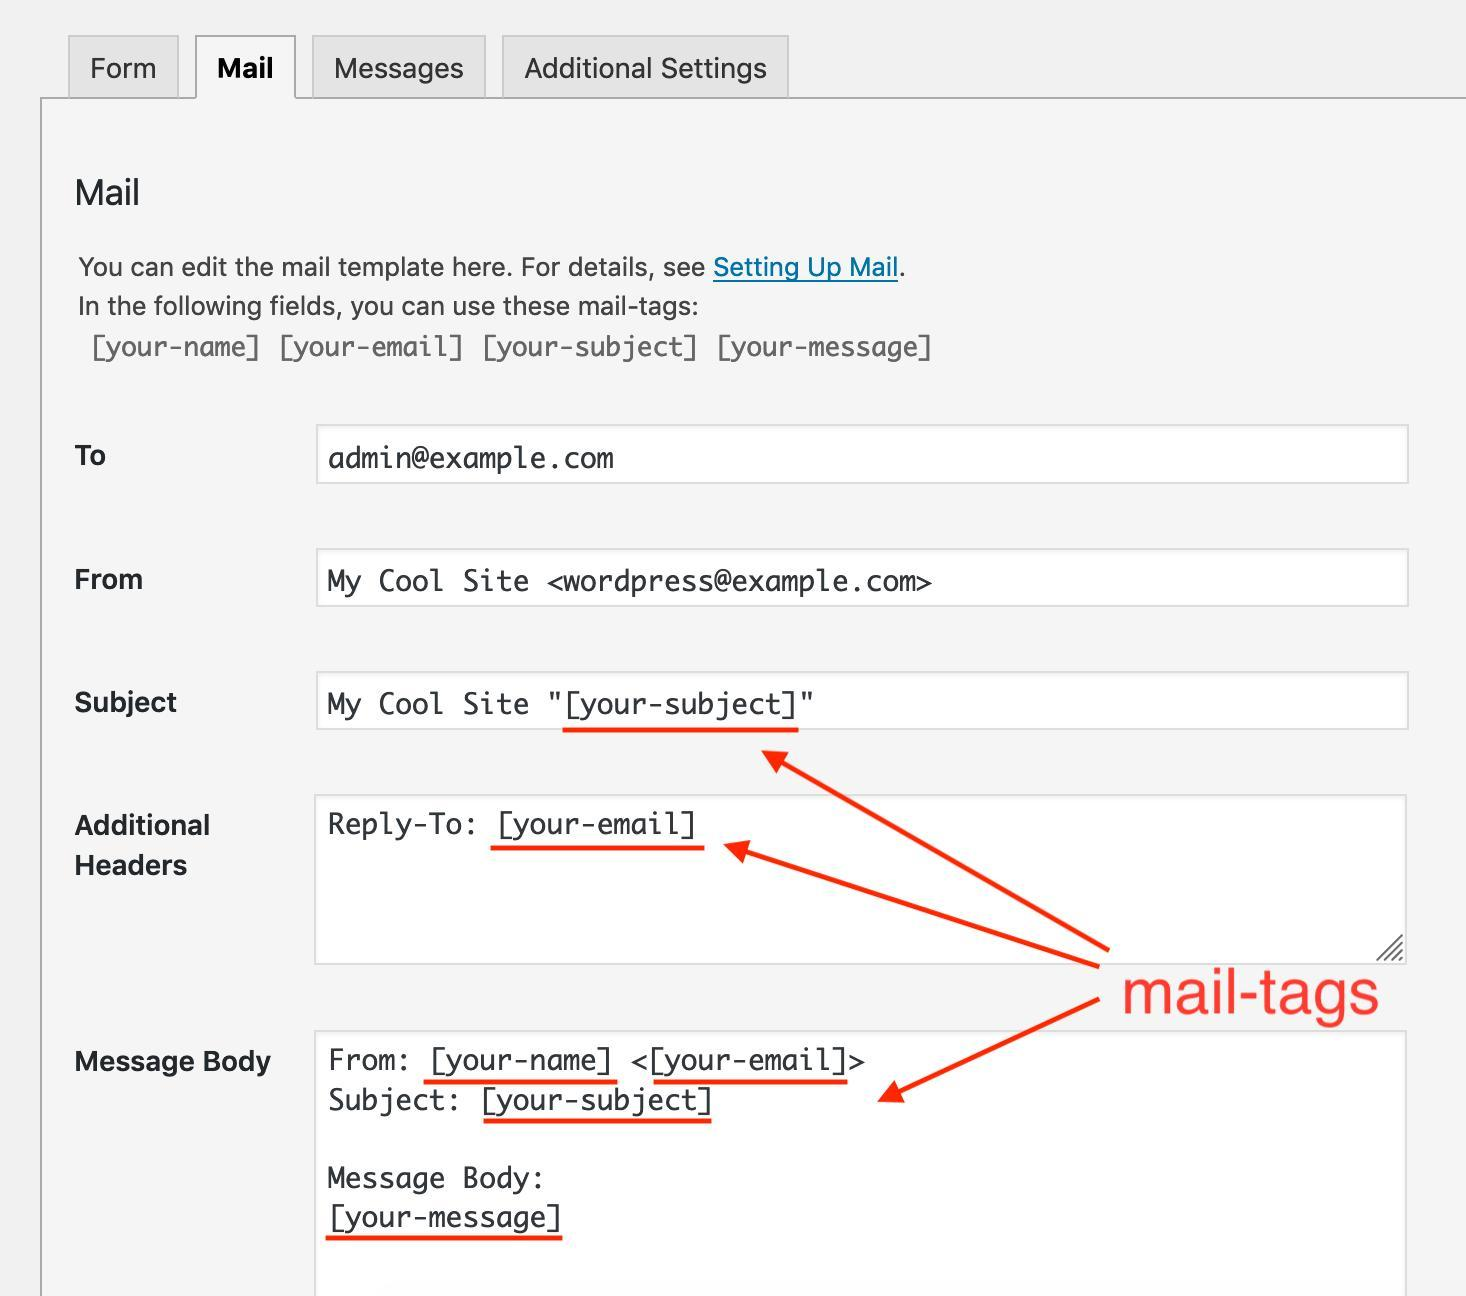button: (505, 39, 792, 100), (315, 33, 487, 98), (71, 39, 181, 98), (198, 38, 300, 94)
input: (315, 799, 1405, 968), (320, 425, 1413, 489), (320, 672, 1411, 728), (323, 550, 1405, 605)
label: (66, 807, 221, 886), (70, 1046, 278, 1088), (71, 688, 188, 724), (71, 565, 148, 599), (65, 433, 119, 477)
